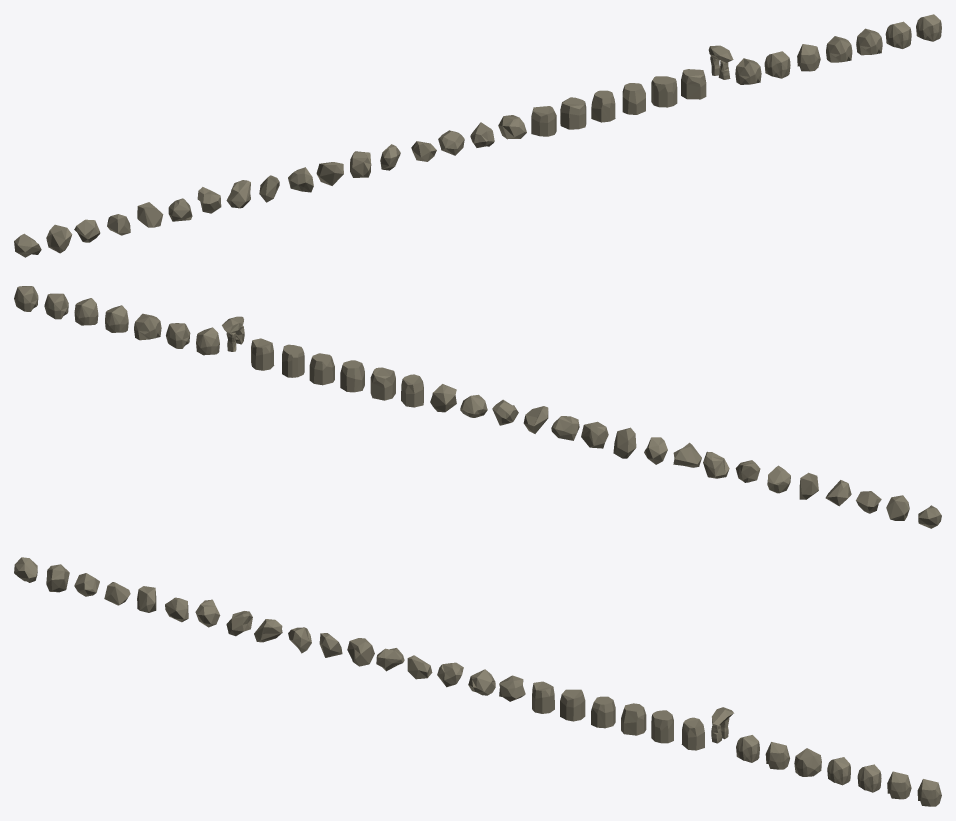
Rendered from rocas.glb.
The picture shows the model from 3 angles, top to bottom: view 1: azimuth 30°, elevation 25°; view 2: azimuth 150°, elevation 25°; view 3: azimuth 330°, elevation 25°; orthographic projection.
Parts seen in each view (by area): view 1: losa-5, losa-2, losa-6, losa-1, losa-3, losa-4, dolmen, pena-4, pena-5, pena-1, pena-2, pena-7 (+6 smaller); view 2: losa-2, losa-4, losa-3, losa-5, losa-1, losa-6, pena-3, roca-12, dolmen, pena-5, pena-4, roca-17 (+7 smaller); view 3: losa-2, losa-4, losa-3, losa-5, losa-6, losa-1, pena-3, roca-12, dolmen, pena-6, pena-7, pena-2 (+6 smaller).
Part boxes in pixels (box(x1,y1,x2,y2)): losa-5: box(651, 76, 677, 107); losa-2: box(560, 97, 586, 129); losa-6: box(681, 69, 706, 99); losa-1: box(531, 106, 556, 136); losa-3: box(591, 90, 615, 122); losa-4: box(622, 83, 645, 114); dolmen: box(708, 45, 733, 79); pena-4: box(826, 36, 852, 62); pena-5: box(856, 28, 882, 55); pena-1: box(735, 58, 761, 84); pena-2: box(764, 51, 790, 78); pena-7: box(916, 14, 941, 41); losa-2: box(370, 367, 395, 400); losa-4: box(309, 353, 334, 385); losa-3: box(340, 360, 364, 392); losa-5: box(282, 344, 304, 377); losa-1: box(401, 374, 423, 407); losa-6: box(251, 338, 274, 370); pena-3: box(134, 313, 161, 340); roca-12: box(581, 421, 608, 448); dolmen: box(222, 316, 244, 351); pena-5: box(74, 298, 98, 325); pena-4: box(105, 305, 128, 332); roca-17: box(430, 384, 456, 412); losa-2: box(560, 689, 585, 721); losa-4: box(621, 703, 646, 735); losa-3: box(591, 696, 615, 728); losa-5: box(651, 710, 673, 743); losa-6: box(681, 717, 704, 750); losa-1: box(532, 681, 554, 713); pena-3: box(794, 748, 821, 776); roca-12: box(347, 638, 374, 666); dolmen: box(711, 707, 733, 743); pena-6: box(887, 771, 911, 799); pena-7: box(917, 779, 941, 806); pena-2: box(765, 742, 789, 769).
Bounding box in the file's own units: 85.35 × 3.6 × 2.92.
